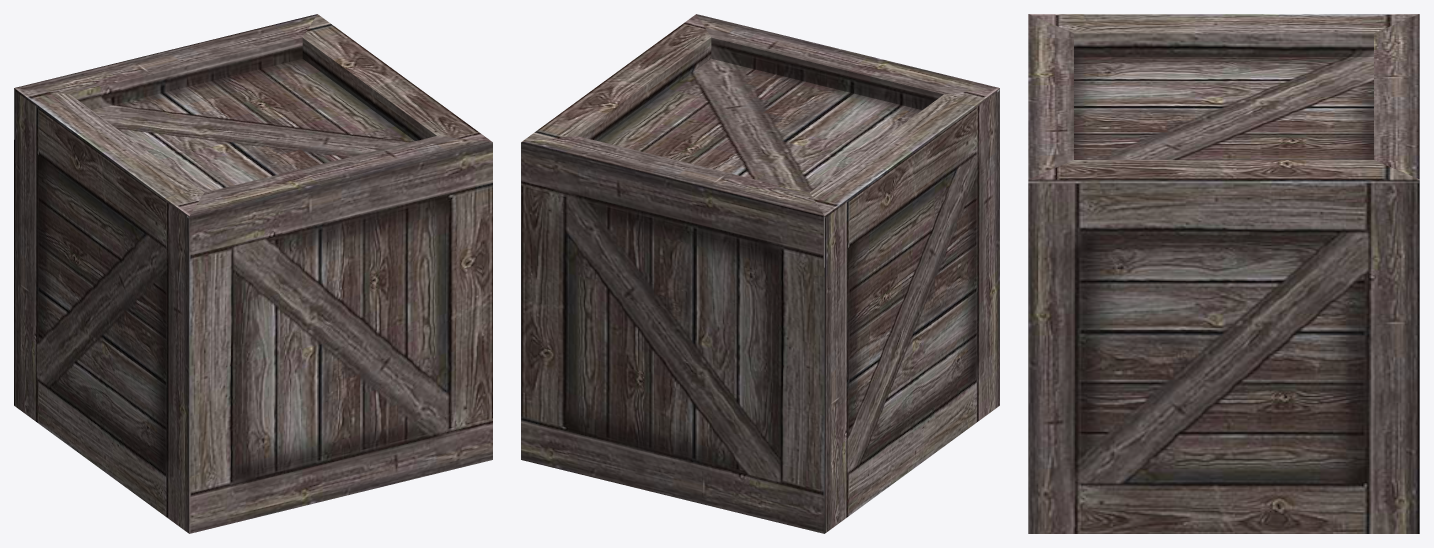
Rendered from Crate.fbx.
The picture shows the model from 3 angles, left to right: view 1: azimuth 30°, elevation 25°; view 2: azimuth 150°, elevation 25°; view 3: azimuth 270°, elevation 25°; orthographic projection. The views are drawn at different scales.
Parts seen in each view (by area): view 1: pasted__pCube3; view 2: pasted__pCube3; view 3: pasted__pCube3.
Boxes of the visible parts, x1,y1,x2,y2 form: pasted__pCube3: [14, 14, 492, 533]; pasted__pCube3: [521, 14, 999, 533]; pasted__pCube3: [1028, 14, 1419, 533].
Size of the model in its own units: 1 by 1 by 1.
